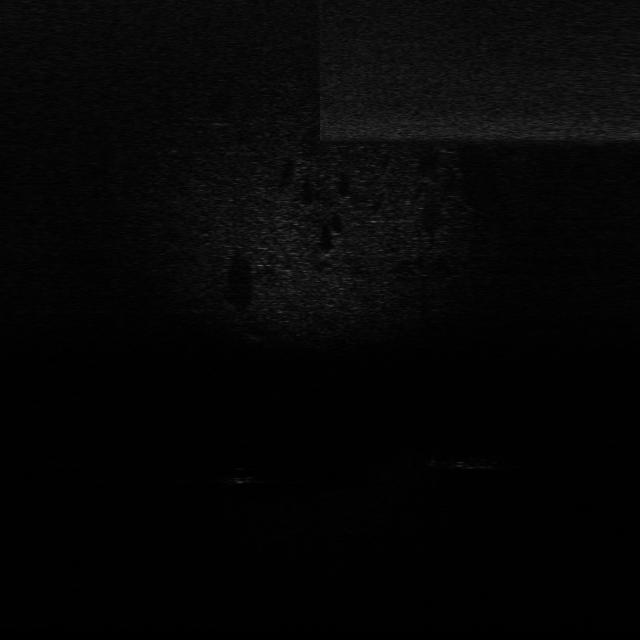ball: (233, 467, 257, 488)
human body: (422, 451, 518, 475)
